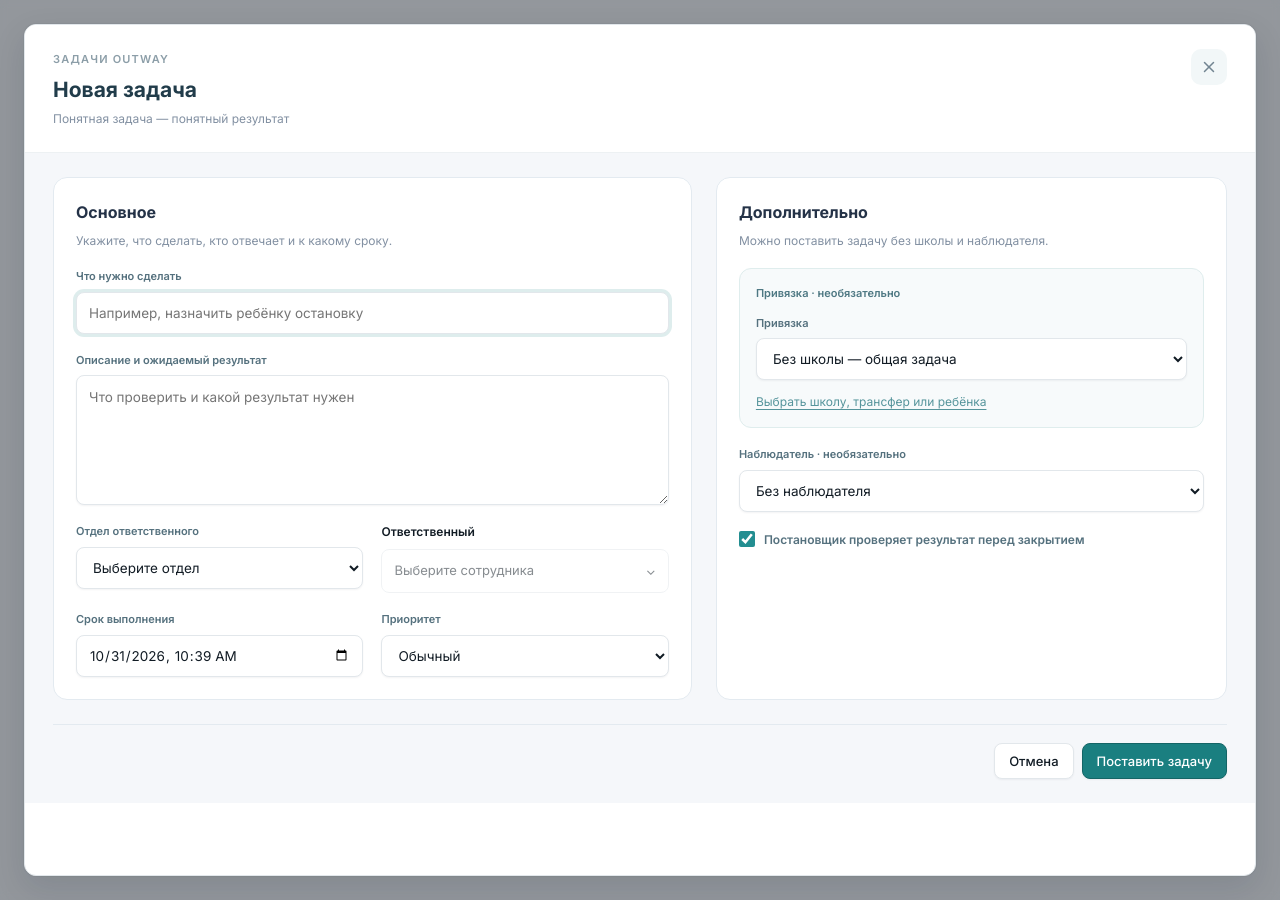
Test: leadership includes the logistics head
Select "Руководство" in the dropdown labelled "Отдел ответственного": (220, 568) [76,547,363,589]
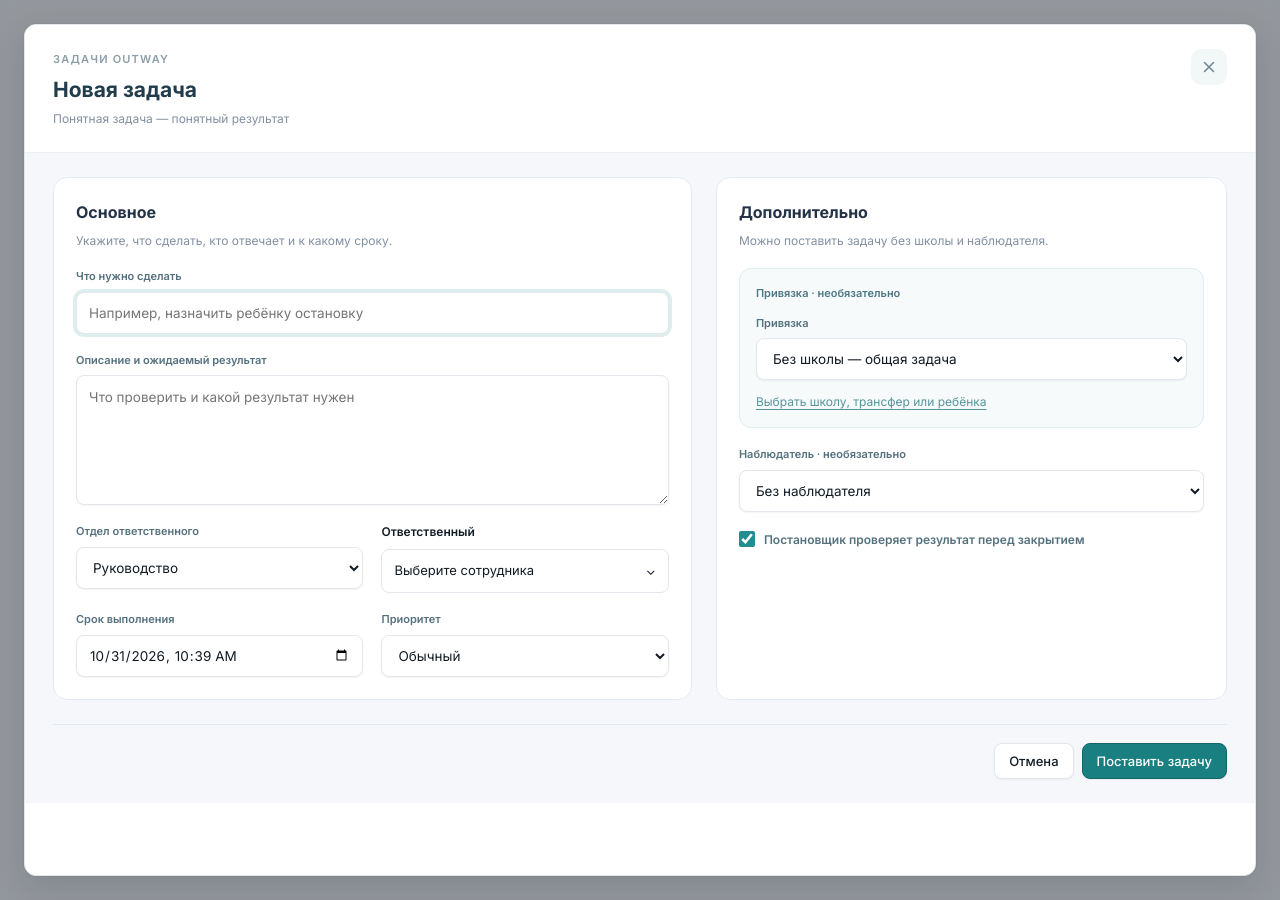
Click the button with aria-label "Ответственный": (525, 571) [381,549,669,593]
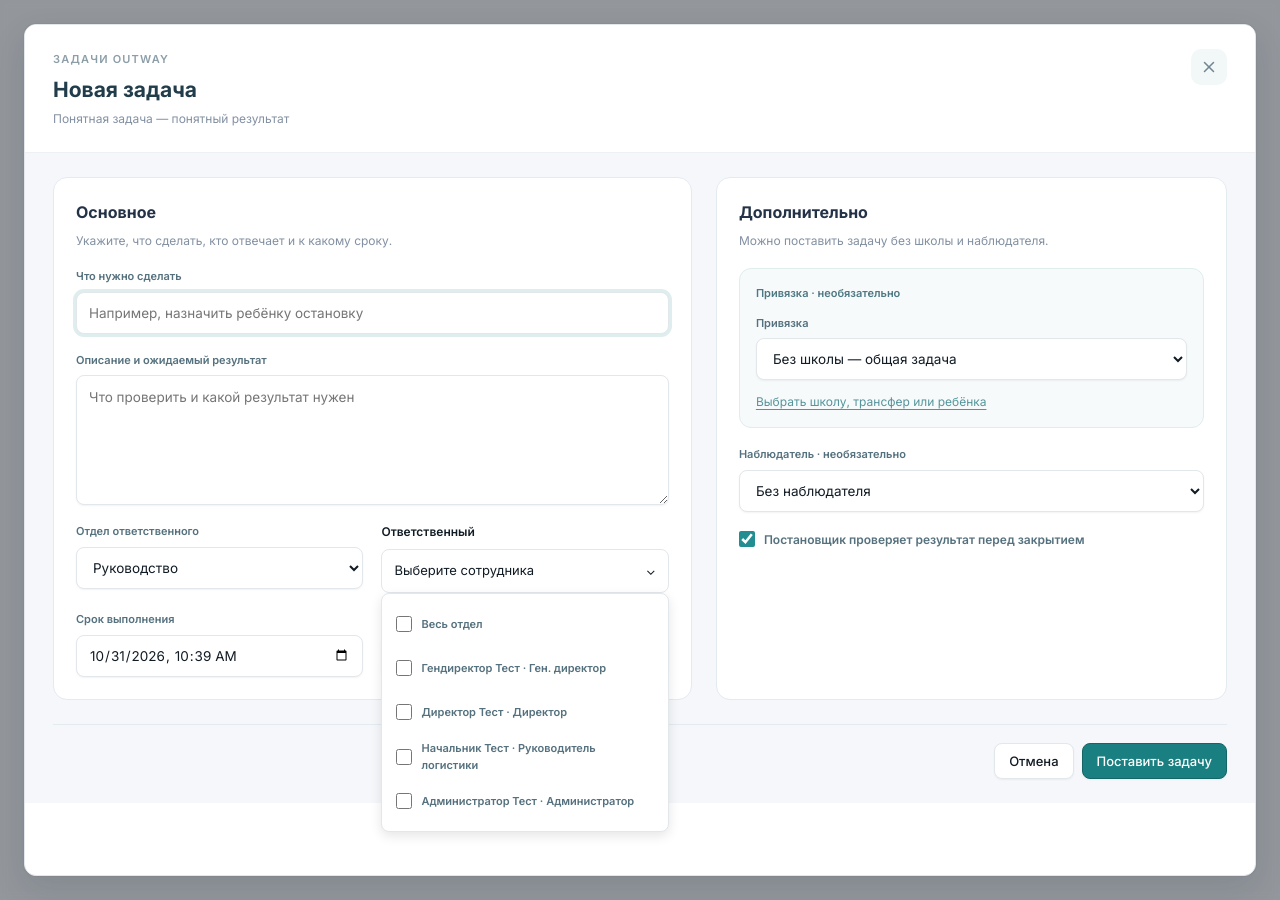
Now the checkbox labelled "Начальник Тест · Руководитель логистики" is shown, box [396,749,412,765]
